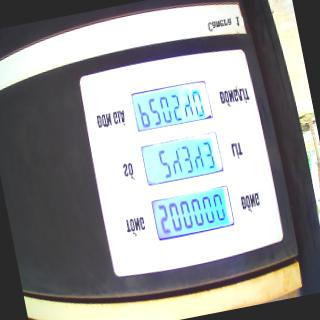screen: (128, 74, 236, 244)
